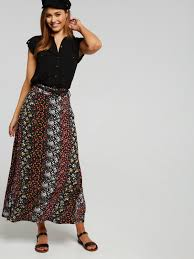C_skirt: (2, 82, 90, 228)
